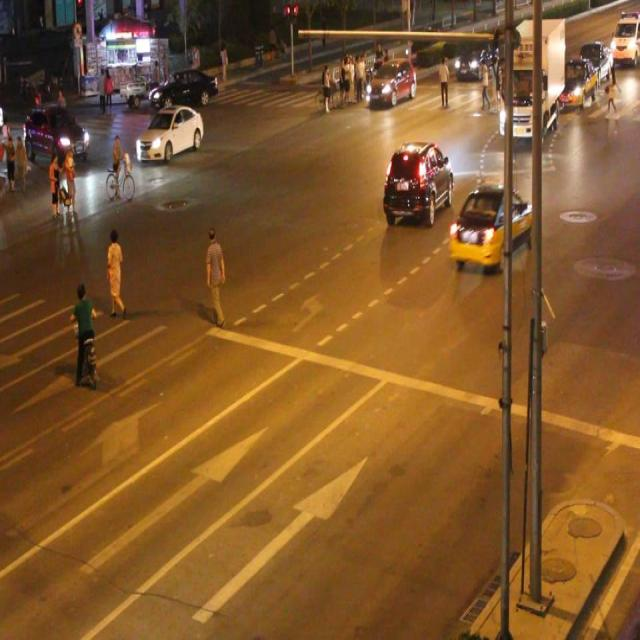bus: (496, 17, 566, 141)
car: (447, 184, 531, 271), (383, 142, 452, 224), (23, 107, 90, 168), (133, 107, 203, 162), (150, 68, 217, 111), (363, 56, 416, 108)
